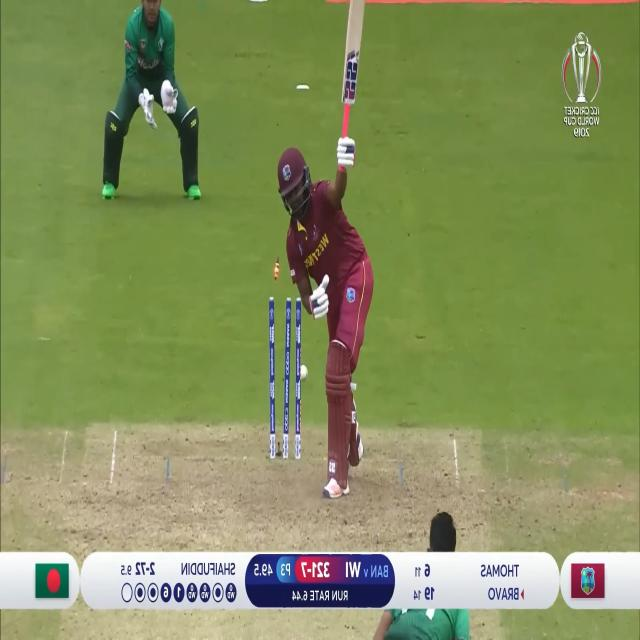ball: (299, 362, 308, 379)
